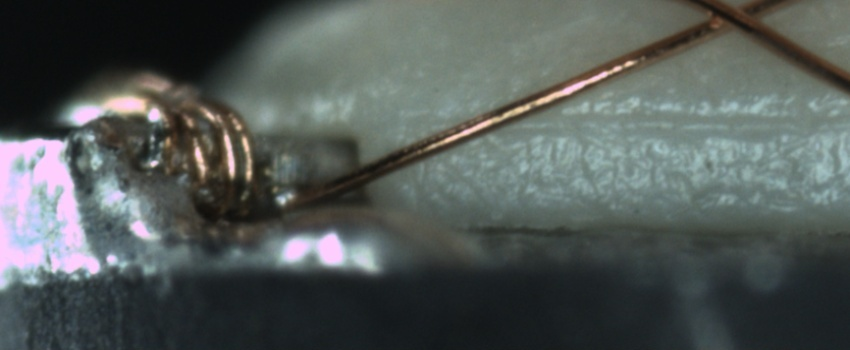CL: (688, 0, 775, 41)
DL: (430, 96, 850, 148)
TE: (76, 62, 263, 223)
